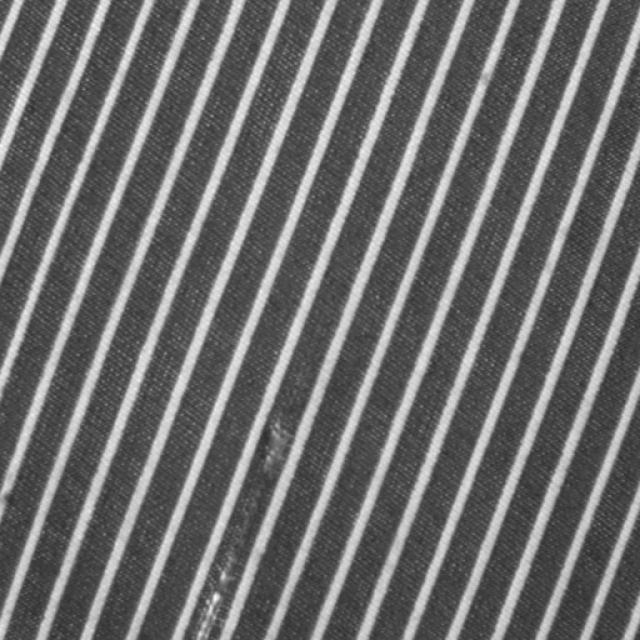Thread-Defect: (185, 402, 291, 639)
